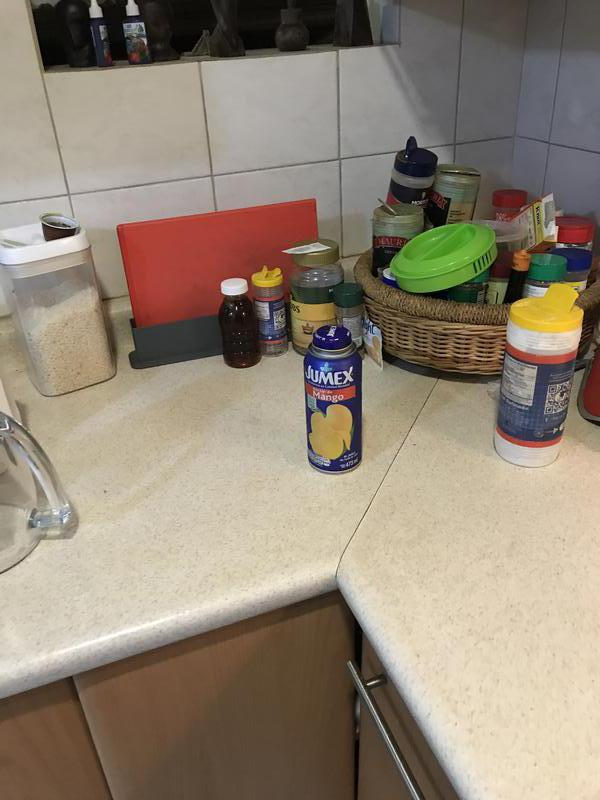jugo_jumex: (301, 327, 364, 473)
